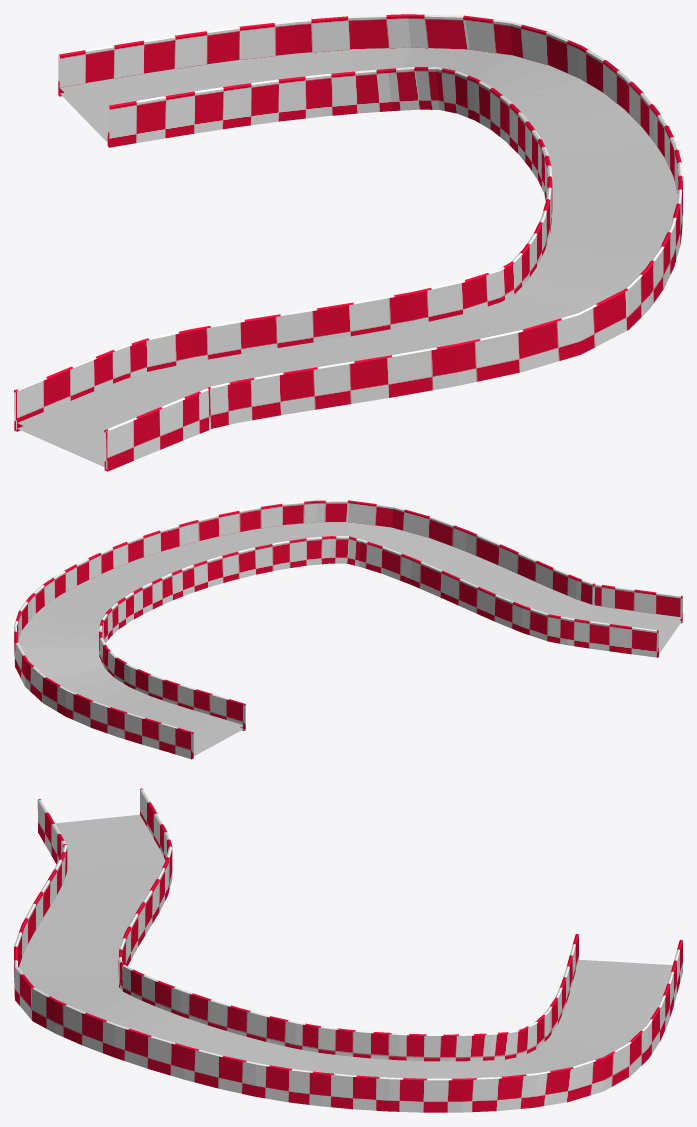
File: aws_Track_04_visual.DAE
3 views of the same model, one above another, from view 1: azimuth 30°, elevation 25°; view 2: azimuth 150°, elevation 25°; view 3: azimuth 270°, elevation 25° (orthographic). The views are drawn at different scales.
Parts seen in each view (by area): view 1: aws_Track_04_visual; view 2: aws_Track_04_visual; view 3: aws_Track_04_visual.
Boxes of the visible parts, bbox=[...] form: aws_Track_04_visual: bbox=[14, 14, 682, 471]; aws_Track_04_visual: bbox=[14, 500, 682, 759]; aws_Track_04_visual: bbox=[14, 788, 682, 1112].
Size of the model in its own units: 1401 by 1313 by 116.
